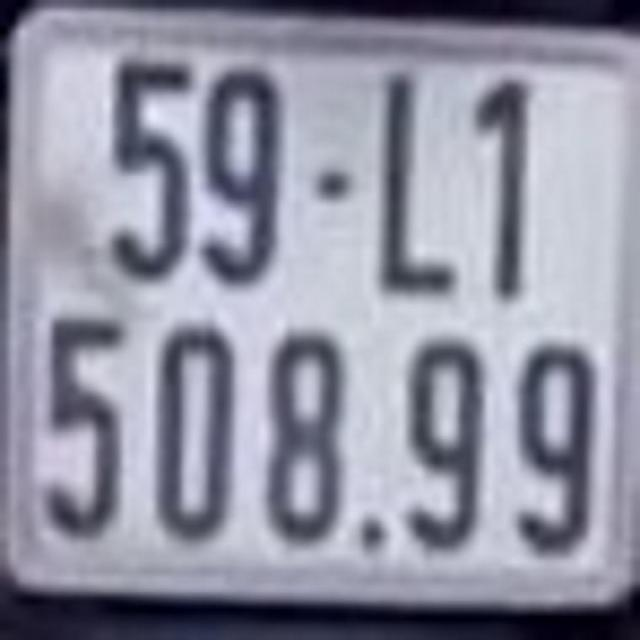0: (157, 320, 231, 538)
1: (472, 82, 529, 296)
5: (108, 52, 188, 276), (50, 313, 121, 537)
8: (268, 329, 343, 538)
9: (204, 65, 284, 282), (406, 332, 485, 548), (516, 339, 592, 552)
L: (386, 62, 458, 292)
